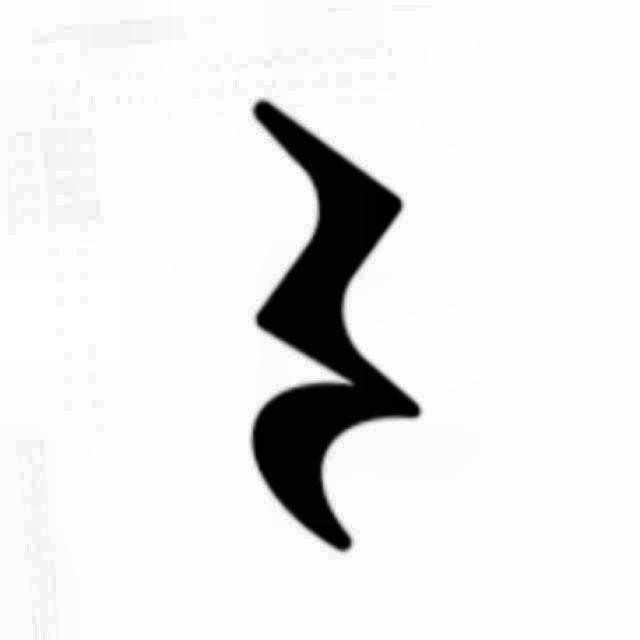Quarter-rest: (226, 88, 432, 564)
